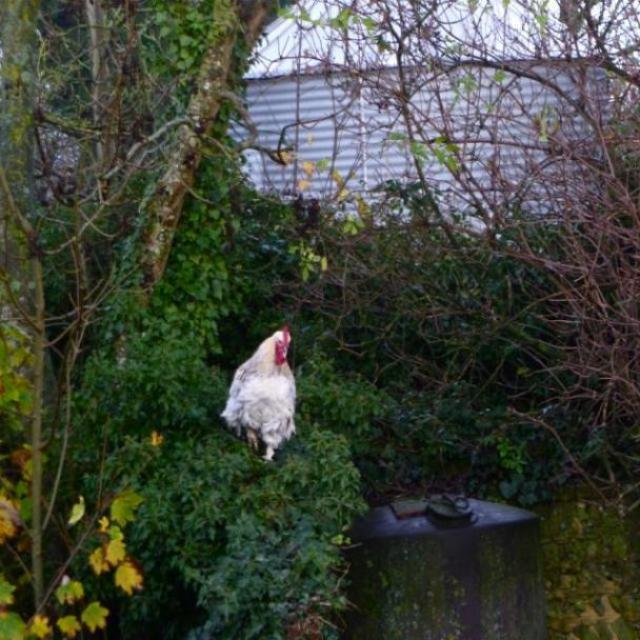Chicken: (219, 326, 303, 475)
